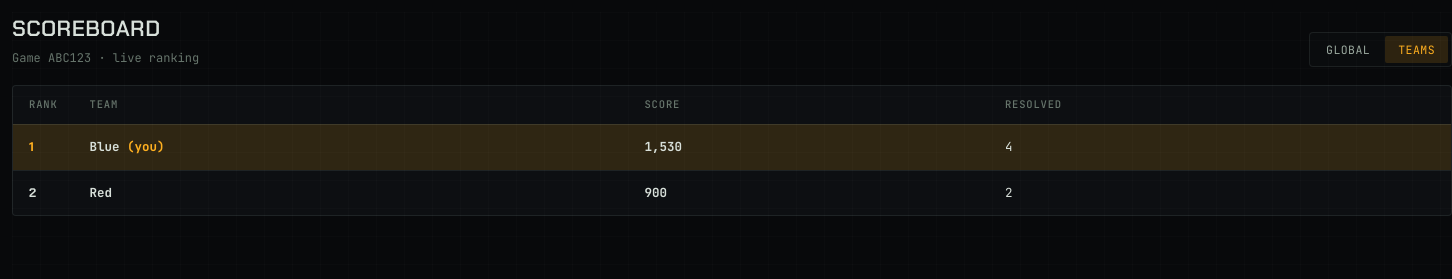
Test: additional screen coverage › Scoreboard switches between teams and global player ranking
Expected: the text "Game ABC123 · live ranking" is shown, [12,49,199,67]
Expected: the text "Blue" is shown, [90,138,120,155]
Click the button "Global" at (1348,50), box [1313,36,1383,63]
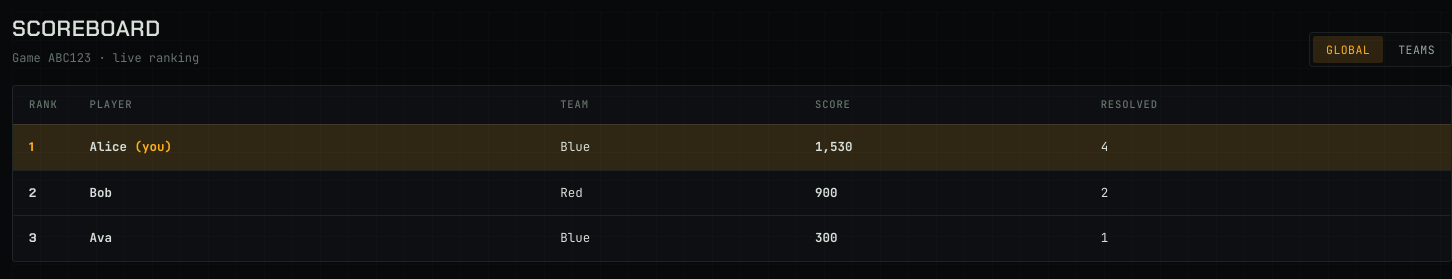
Expected: the text "Alice" is shown, [90,138,127,155]
Expected: the text "Bob" is shown, [74,170,544,216]
